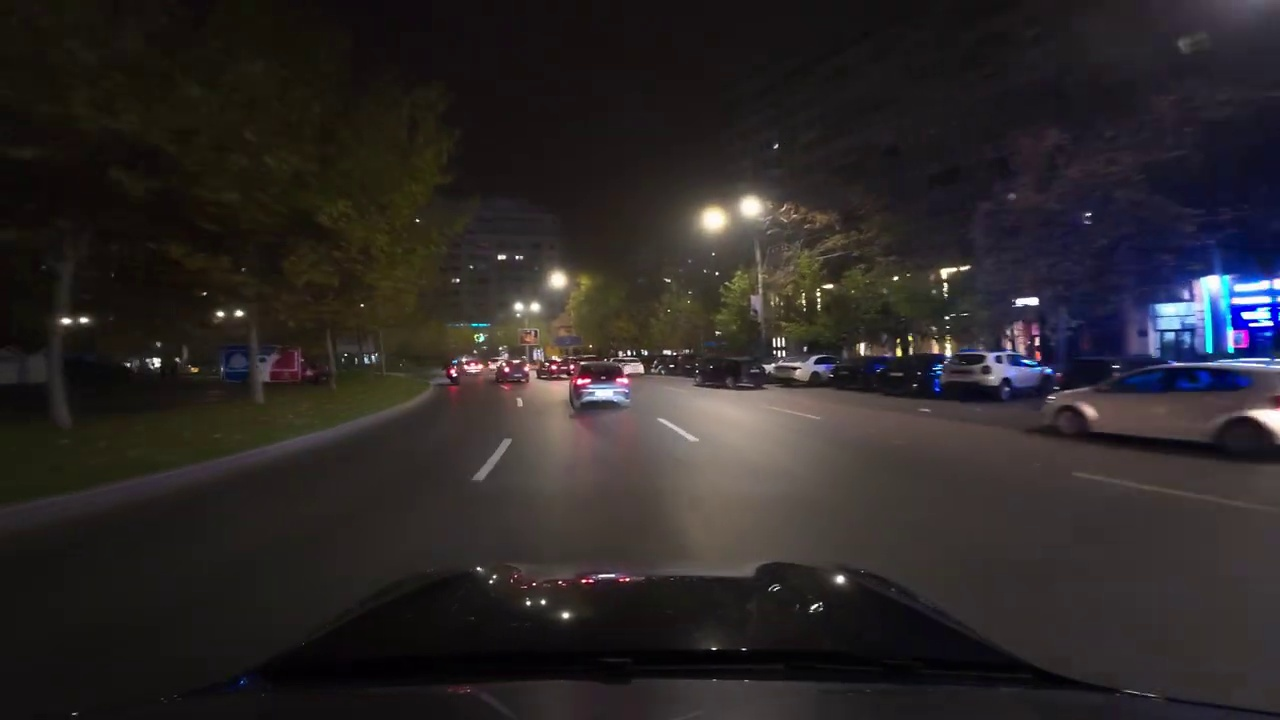acesa: (700, 198, 743, 233), (728, 195, 765, 228), (698, 204, 729, 235), (737, 194, 766, 221), (546, 268, 571, 294)
